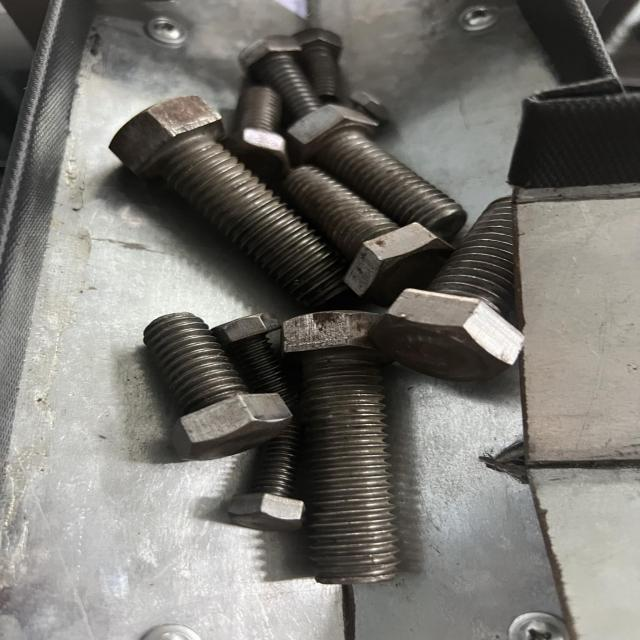bolt: (110, 96, 388, 307), (146, 313, 290, 460)
